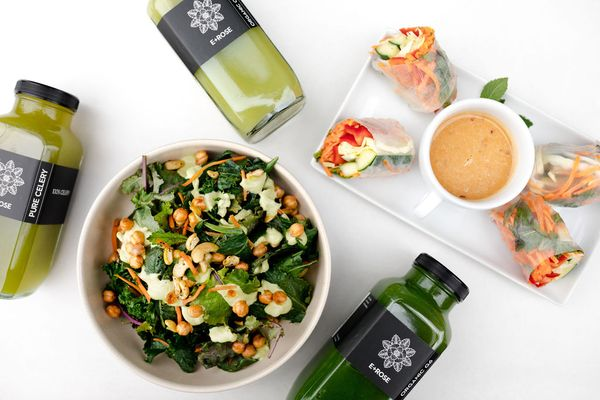soup: (498, 191, 584, 285), (369, 25, 458, 114), (314, 115, 415, 179)
sushi: (76, 137, 334, 392), (419, 96, 536, 212)
